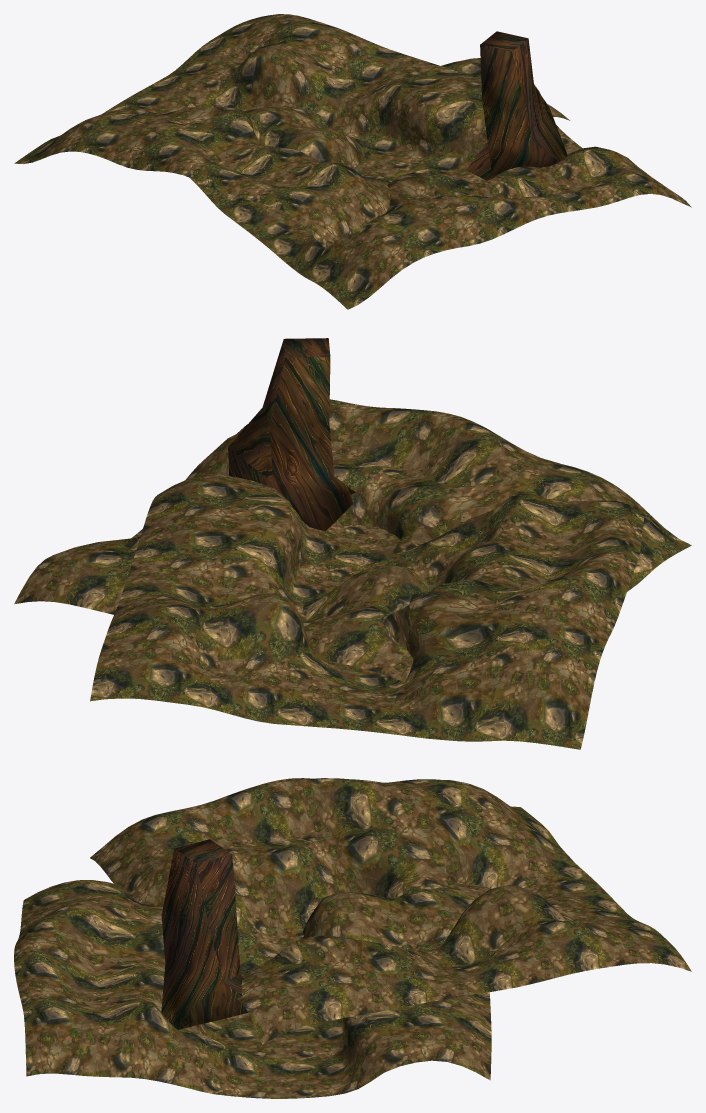
File: ground and tree.glb
3 renders of one model, top to bottom at view 1: azimuth 30°, elevation 25°; view 2: azimuth 150°, elevation 25°; view 3: azimuth 270°, elevation 25°, orthographic. The views are drawn at different scales.
Visible parts, largest first — view 1: Plane.003, Plane, Cube; view 2: Plane.003, Plane, Cube; view 3: Plane.003, Plane, Cube.
Boxes of the visible parts, x1,y1,x2,y2 form: Plane.003: (14,14,570,248); Plane: (189,58,691,309); Cube: (466,31,567,180); Plane.003: (90,474,651,749); Plane: (14,399,691,681); Cube: (228,338,355,531); Plane.003: (90,778,691,1044); Plane: (14,880,491,1098); Cube: (161,839,247,1029).
Bounding box in the file's own units: 191 × 61.53 × 205.
Materials: 2 (2 with a texture image).
